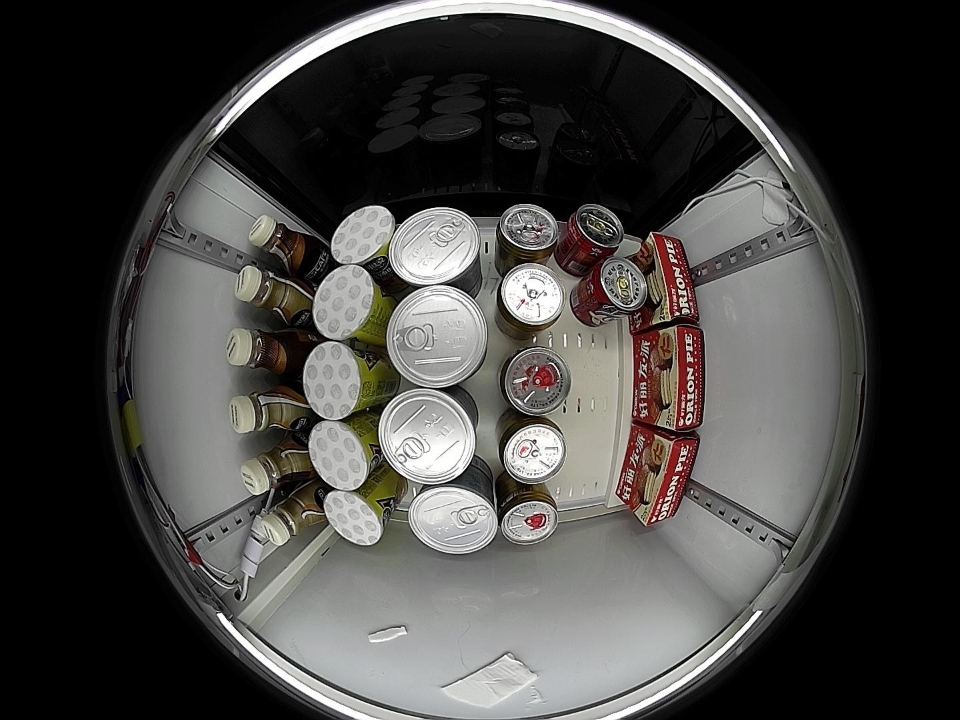haitai: (386, 285, 490, 389), (378, 386, 480, 484), (389, 206, 482, 289), (407, 486, 497, 558)
haoliyou: (631, 430, 700, 528), (644, 324, 705, 432), (643, 232, 699, 325)
hongniu: (499, 345, 572, 416), (497, 488, 559, 547)
hongniu2: (494, 263, 565, 338), (497, 416, 568, 484), (495, 203, 559, 264)
kafei: (234, 264, 313, 328), (247, 214, 321, 277), (240, 434, 312, 496), (255, 486, 325, 547), (225, 327, 307, 378), (228, 385, 305, 435)
kebike: (312, 265, 389, 343), (303, 341, 377, 420), (308, 417, 379, 491), (329, 205, 398, 272), (322, 485, 394, 546)
wangzainiunai: (580, 257, 648, 322), (562, 204, 625, 264)
